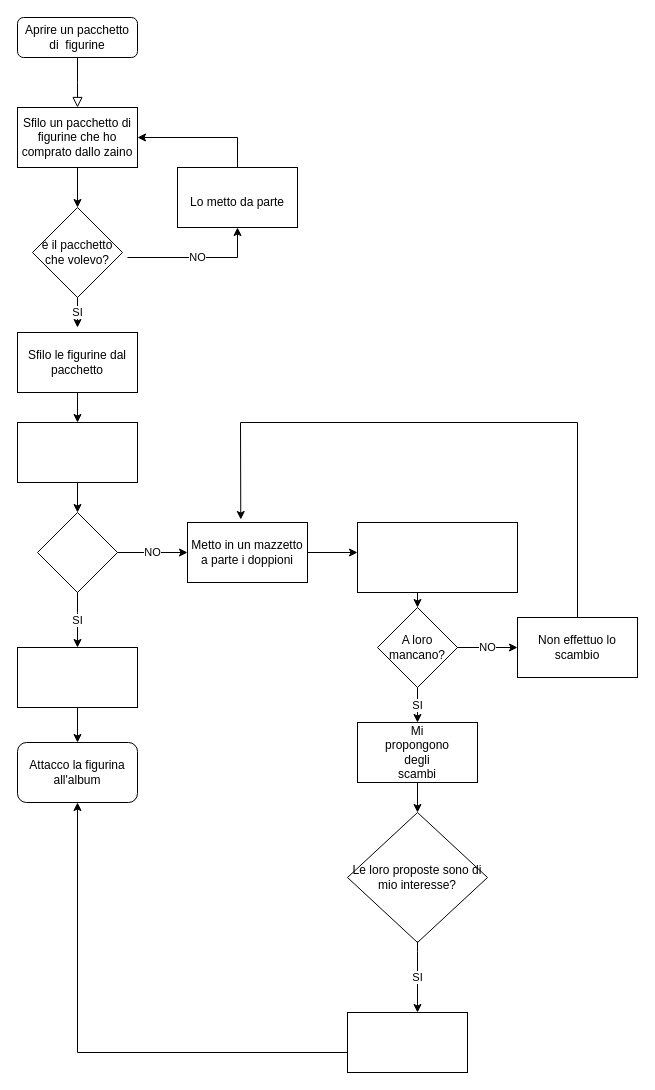
Image size: 655x1090. Some labels were removed from this diagram. The shapes that lost their labels are listed below. From the top down, each one's centre as x and y in pixels, then its label:
the point at 77,452: Controllo l'album tenendole in mano
the point at 77,552: Sono nuove?
the point at 437,557: Aspetto il sabato per provare a scambiarle con i miei amici
the point at 77,677: Cerco la corrispondenza del numero della carta all'interno dell'album
the point at 407,1042: Effettuo lo scambio così da avere nuove figurine per la mia collezione.
